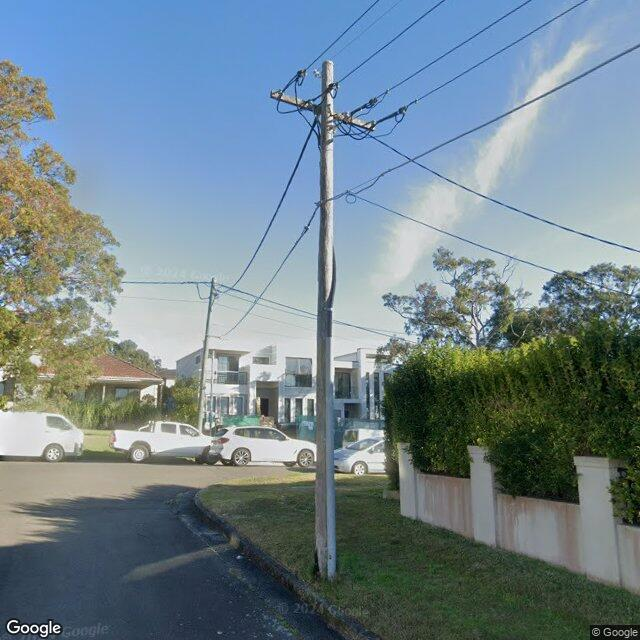crossarm: (270, 88, 375, 132)
timber-pole: (315, 61, 338, 580), (198, 277, 215, 432)
